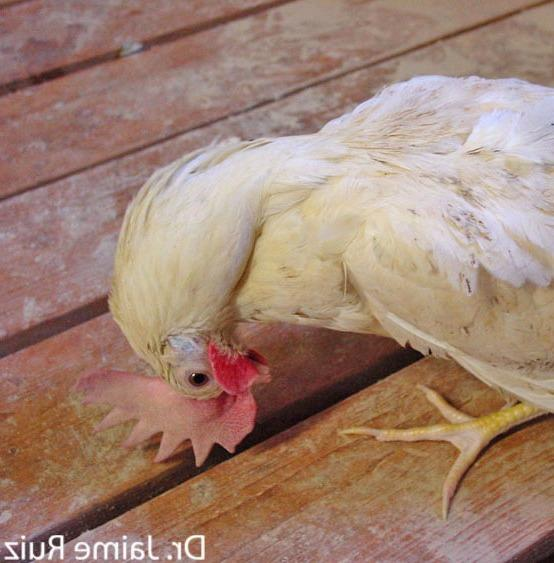AbNormal: (85, 69, 554, 513)
